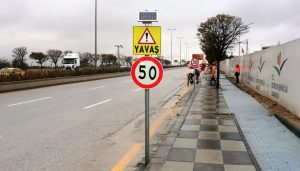50 Km Hiz Siniri: (130, 56, 163, 89)
